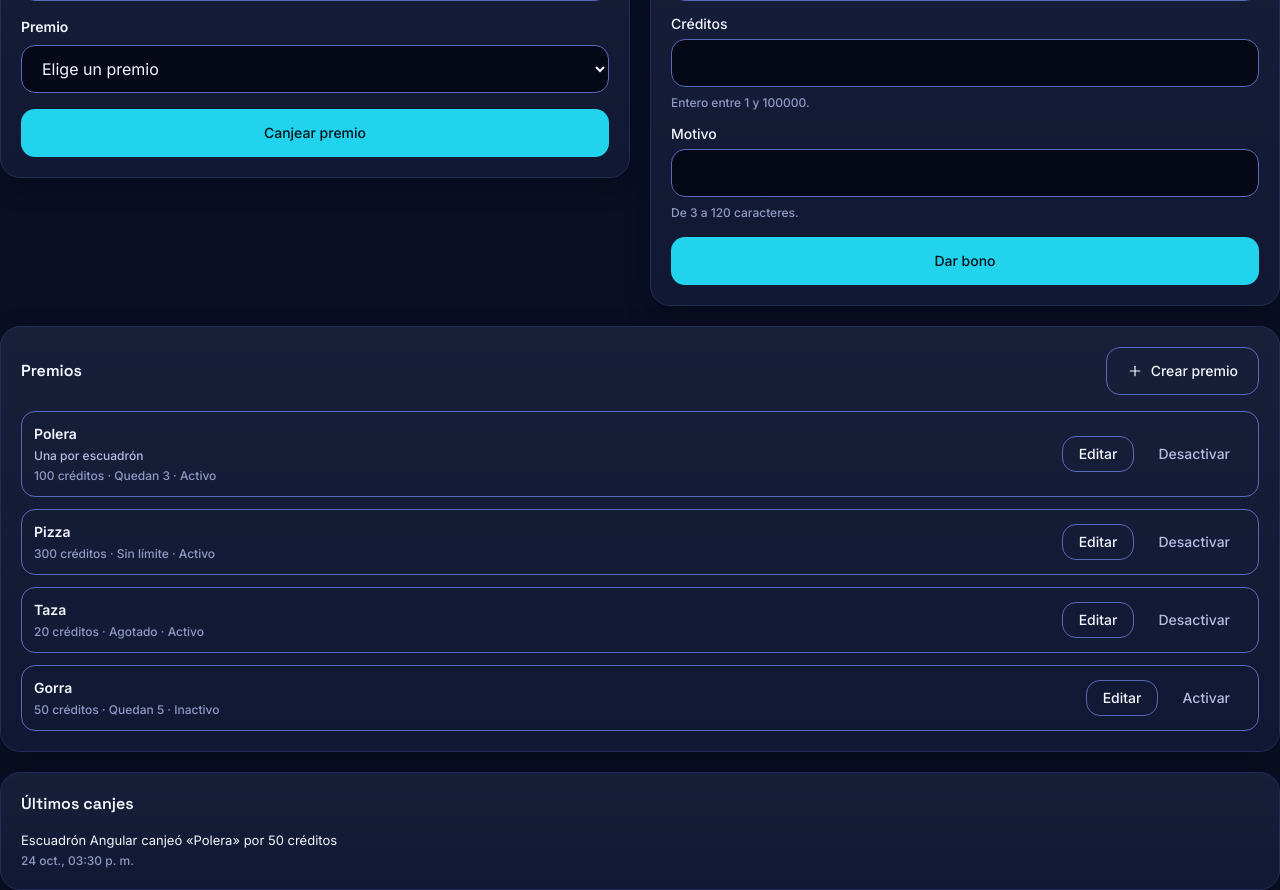
Test: SquadCreditsAdminView › prizes › deactivates and activates prizes, and explains a refusal
(page scrolled)
Click the button "Desactivar" in the row of "Una por escuadrón".
click(1194, 454)  # box [1142,436,1246,472]
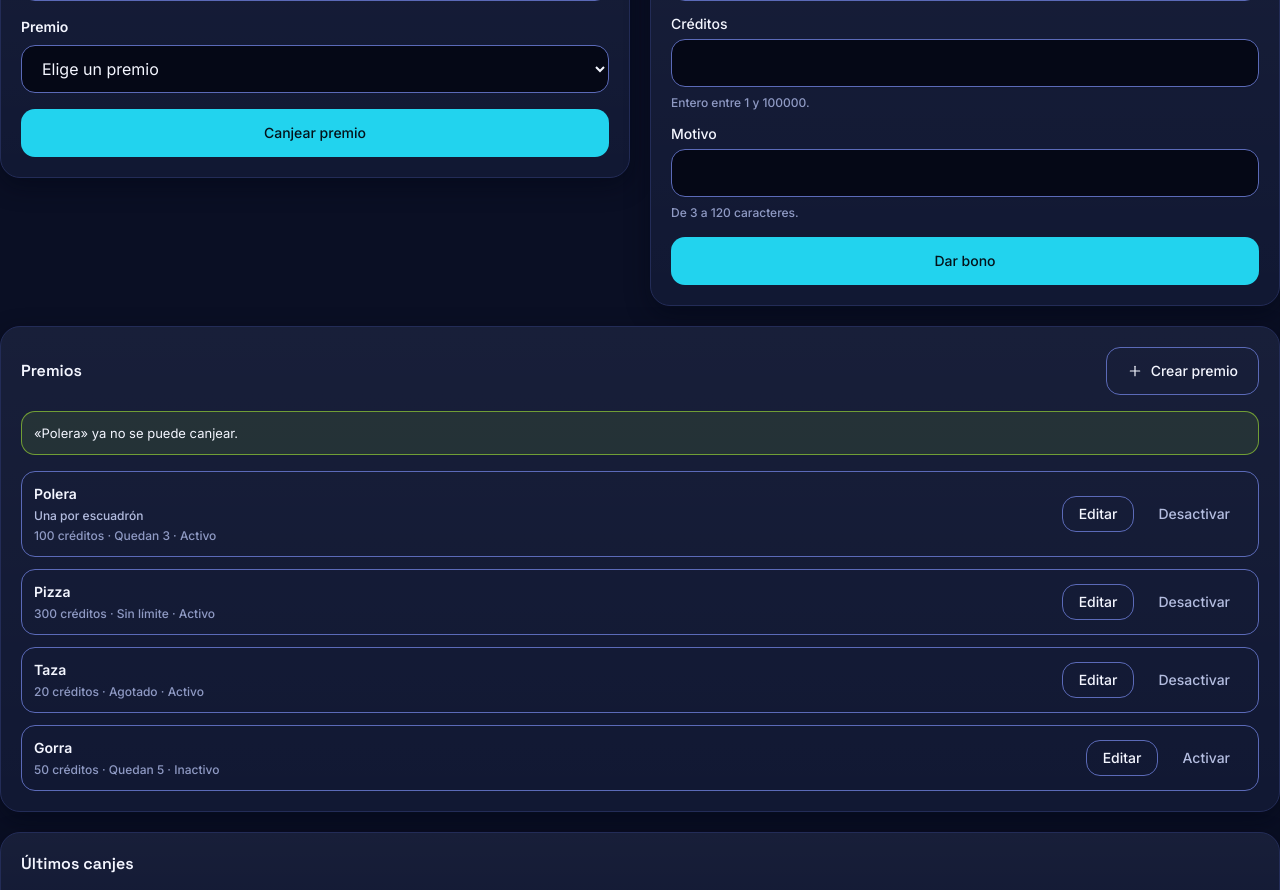
Now the text "«Polera» ya no se puede canjear." is shown, box [21,411,1259,455]
Click the button "Activar".
click(1206, 758)  # box [1166,740,1246,776]
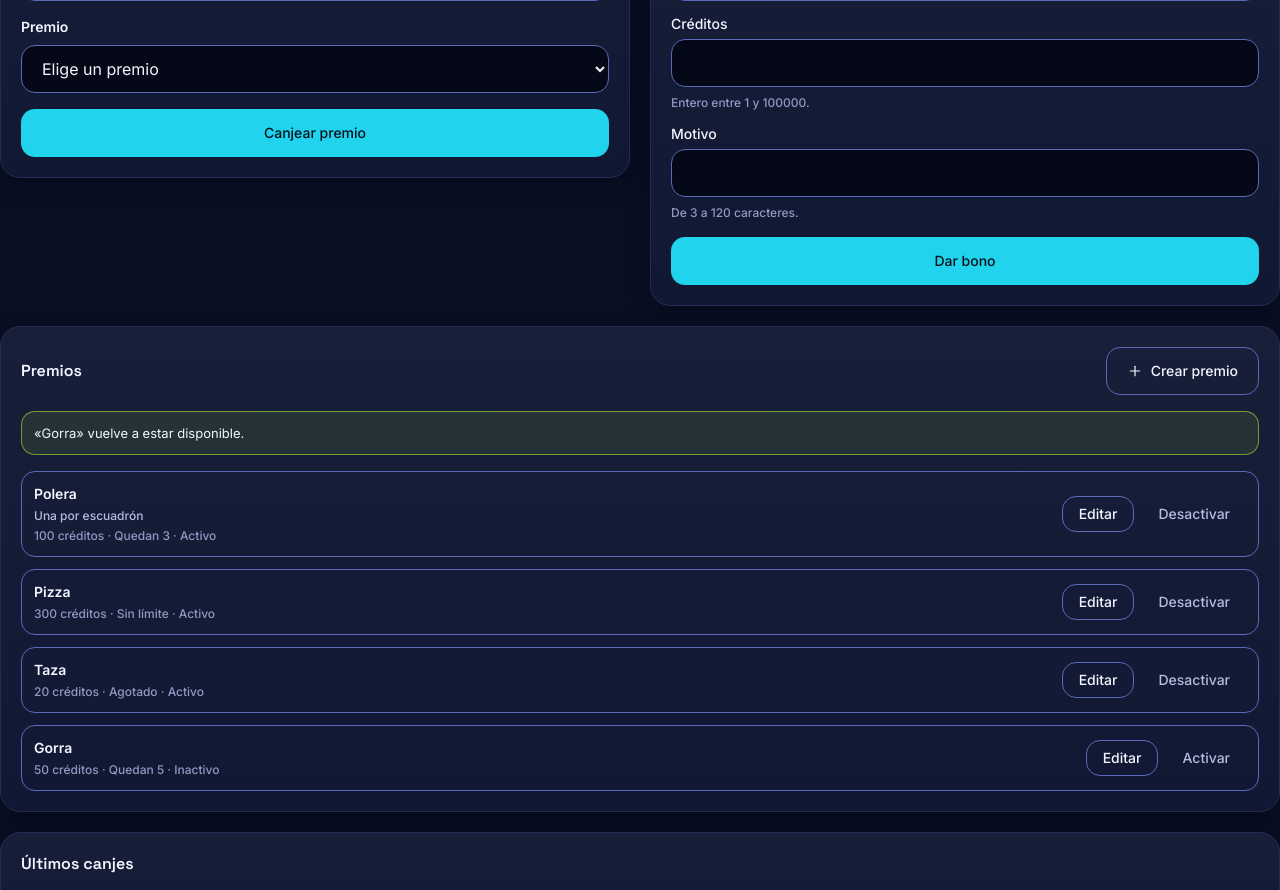
Now the text "«Gorra» vuelve a estar disponible." is shown, box [21,411,1259,455]
Click the button "Activar".
click(1206, 758)  # box [1166,740,1246,776]
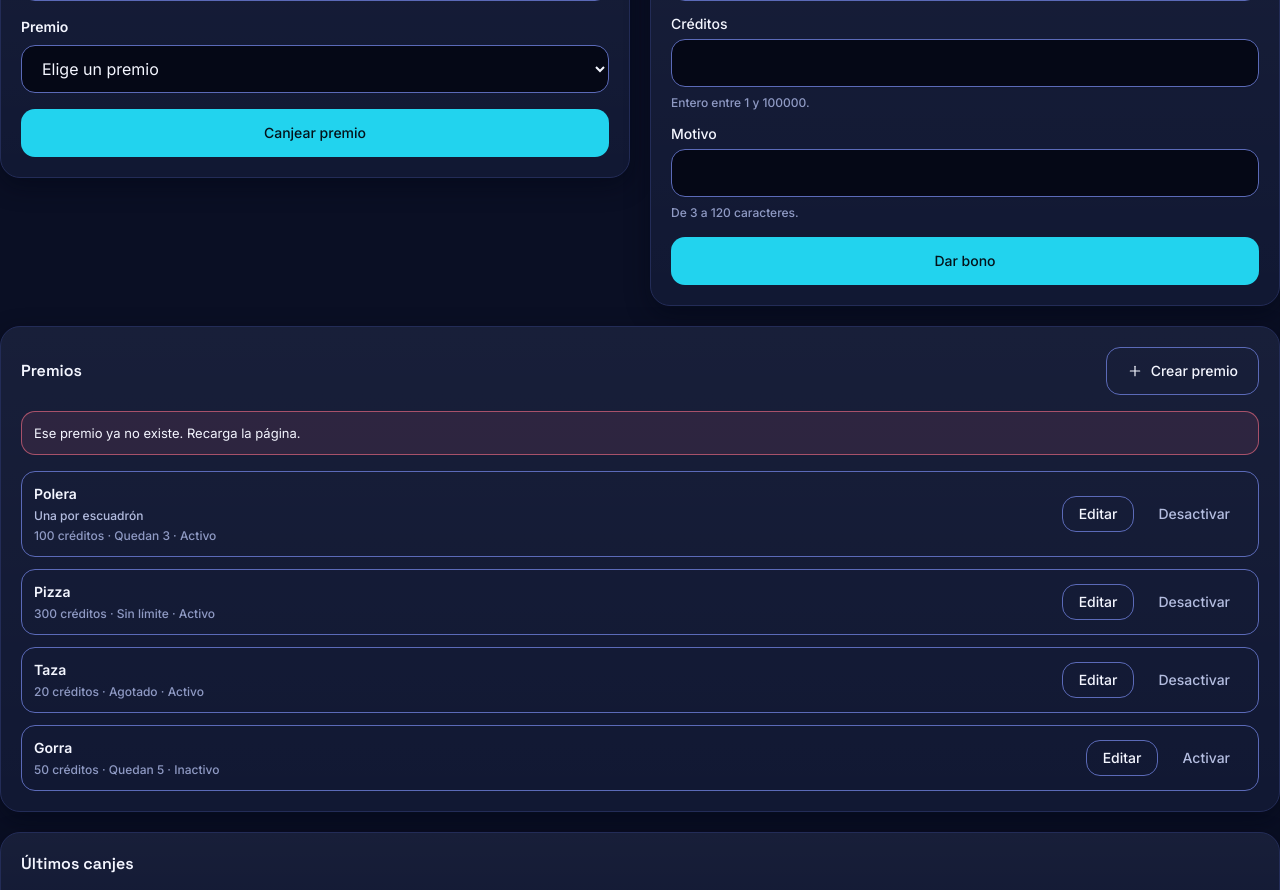
Now the text "Ese premio ya no existe. Recarga la página." is shown, box [21,411,1259,455]
